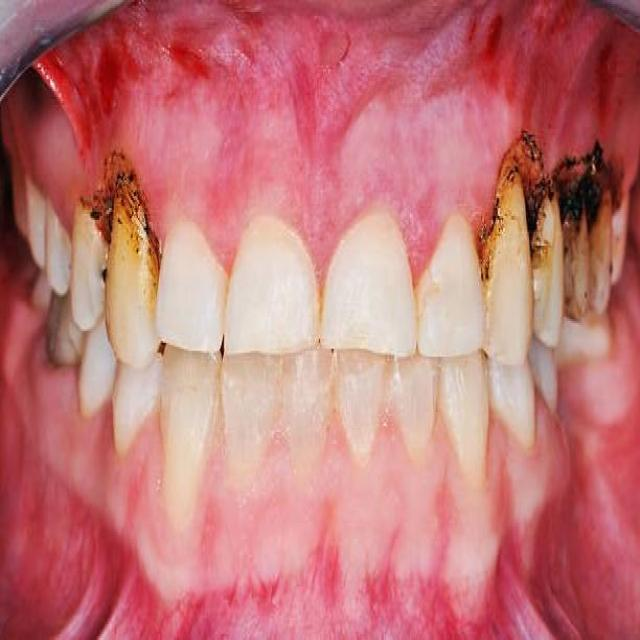Gingivitis: (79, 44, 134, 136), (170, 43, 217, 98)
